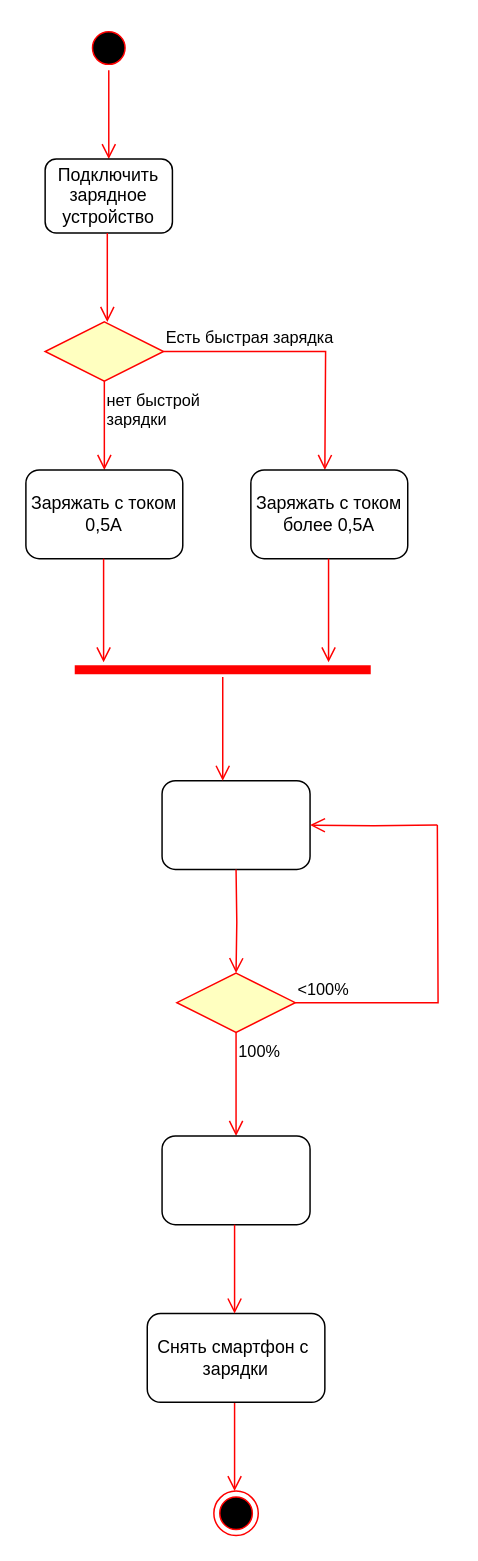
Some shapes in this 478 by 1561 pixel diagram are drawn without their labels. The shapes that lost their labels are listed below. From the top down, each one's centre as x and y in pixels, then its label:
At (235,824): "Зарядиться".
At (235,1179): "Прекаратить зарядку".
